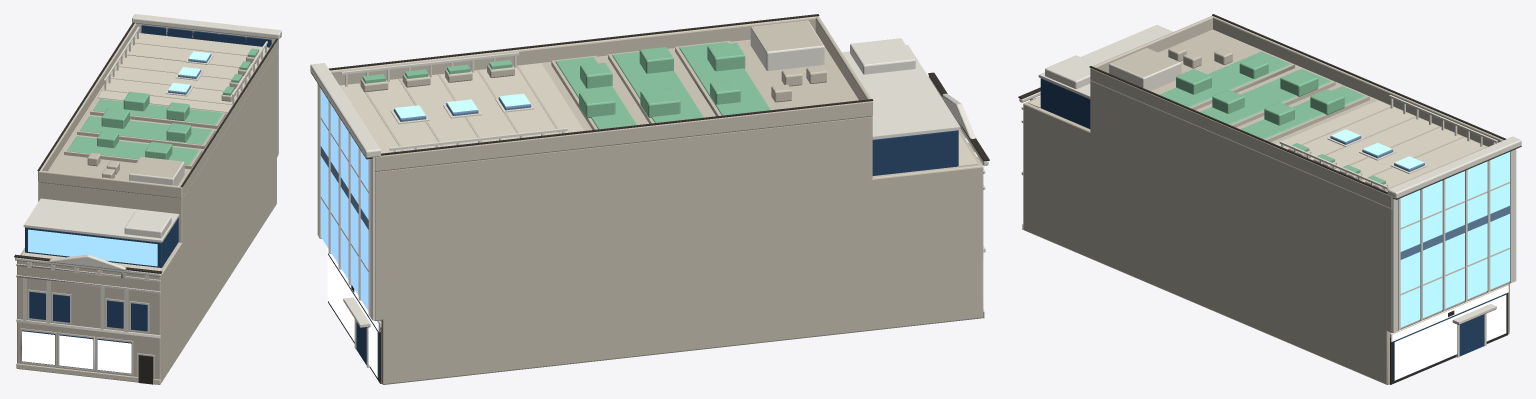
File: 110-embarcadero.glb
3 views of the same model, side by side, from view 1: azimuth 30°, elevation 25°; view 2: azimuth 150°, elevation 25°; view 3: azimuth 270°, elevation 25° (orthographic). The views are drawn at different scales.
Visible parts, largest first — view 1: grp_Toy_stone, grp_Toy_trim, grp_Toy_sand, body_high, grp_Toy_mint, grp_Toy_glassl_Glow, grp_Toy_glass, grp_Toy_cream_Glow, grp_Toy_ink, plant_screen, setback_glass; view 2: grp_Toy_stone, body_high, grp_Toy_trim, grp_Toy_sand, grp_Toy_mint, grp_Toy_glassl_Glow, grp_Toy_ink, setback_glass, plant_screen, grp_Toy_cream_Glow, grp_Toy_glassl, grp_Toy_glass; view 3: grp_Toy_stone, body_high, grp_Toy_glassl_Glow, grp_Toy_trim, grp_Toy_mint, grp_Toy_sand, grp_Toy_cream_Glow, grp_Toy_ink, plant_screen, setback_glass, grp_Toy_glass, grp_Toy_glassl (+1 smaller).
Part boxes in pixels (x1,y1,x2,y2): grp_Toy_stone: (17, 23, 278, 383); grp_Toy_trim: (15, 14, 281, 384); grp_Toy_sand: (16, 34, 268, 384); body_high: (38, 33, 278, 242); grp_Toy_mint: (67, 48, 258, 164); grp_Toy_glassl_Glow: (28, 51, 210, 266); grp_Toy_glass: (22, 25, 271, 373); grp_Toy_cream_Glow: (22, 331, 131, 373); grp_Toy_ink: (14, 22, 281, 384); plant_screen: (129, 157, 184, 185); setback_glass: (25, 218, 178, 267); grp_Toy_stone: (330, 16, 983, 384); body_high: (340, 39, 872, 234); grp_Toy_trim: (310, 38, 988, 367); grp_Toy_sand: (340, 63, 984, 318); grp_Toy_mint: (362, 42, 770, 129); grp_Toy_glassl_Glow: (321, 89, 530, 310); grp_Toy_ink: (310, 14, 989, 383); setback_glass: (872, 130, 958, 175); plant_screen: (750, 20, 824, 70); grp_Toy_cream_Glow: (327, 254, 983, 377); grp_Toy_glassl: (320, 97, 531, 229); grp_Toy_glass: (328, 253, 379, 378); grp_Toy_stone: (1023, 15, 1509, 384); body_high: (1090, 29, 1487, 261); grp_Toy_glassl_Glow: (1331, 129, 1509, 327); grp_Toy_trim: (1019, 25, 1521, 357); grp_Toy_mint: (1159, 51, 1385, 184); grp_Toy_sand: (1022, 97, 1485, 229); grp_Toy_cream_Glow: (1394, 295, 1506, 380); grp_Toy_ink: (1018, 14, 1521, 384); plant_screen: (1109, 48, 1181, 90); setback_glass: (1040, 78, 1090, 128); grp_Toy_glass: (1393, 293, 1506, 381); grp_Toy_glassl: (1330, 136, 1509, 259).
Size of the model in its own units: 40.48 by 17.4 by 40.19.
